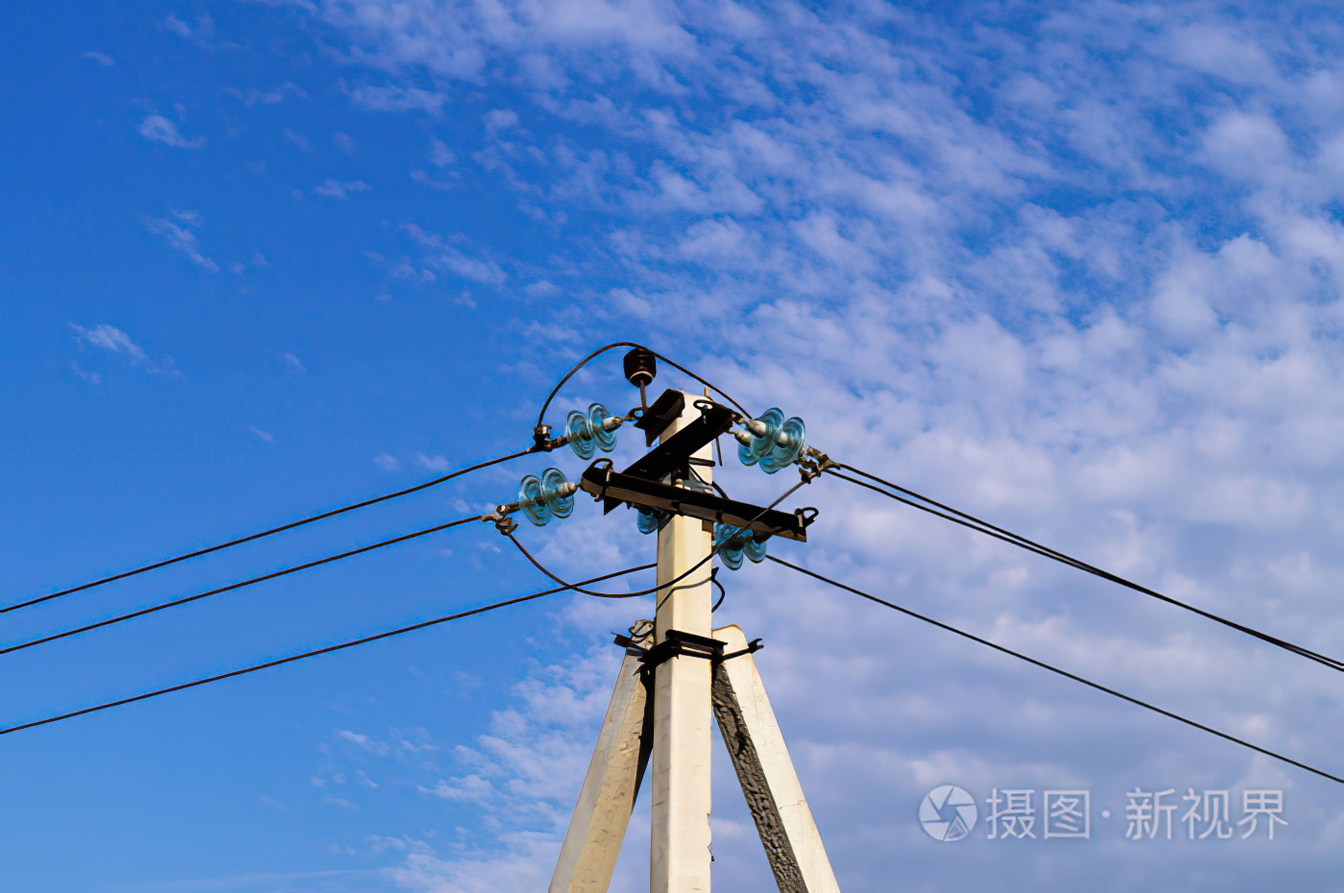insulator: (741, 406, 804, 473), (516, 468, 573, 525), (563, 401, 616, 458), (716, 525, 765, 572)
